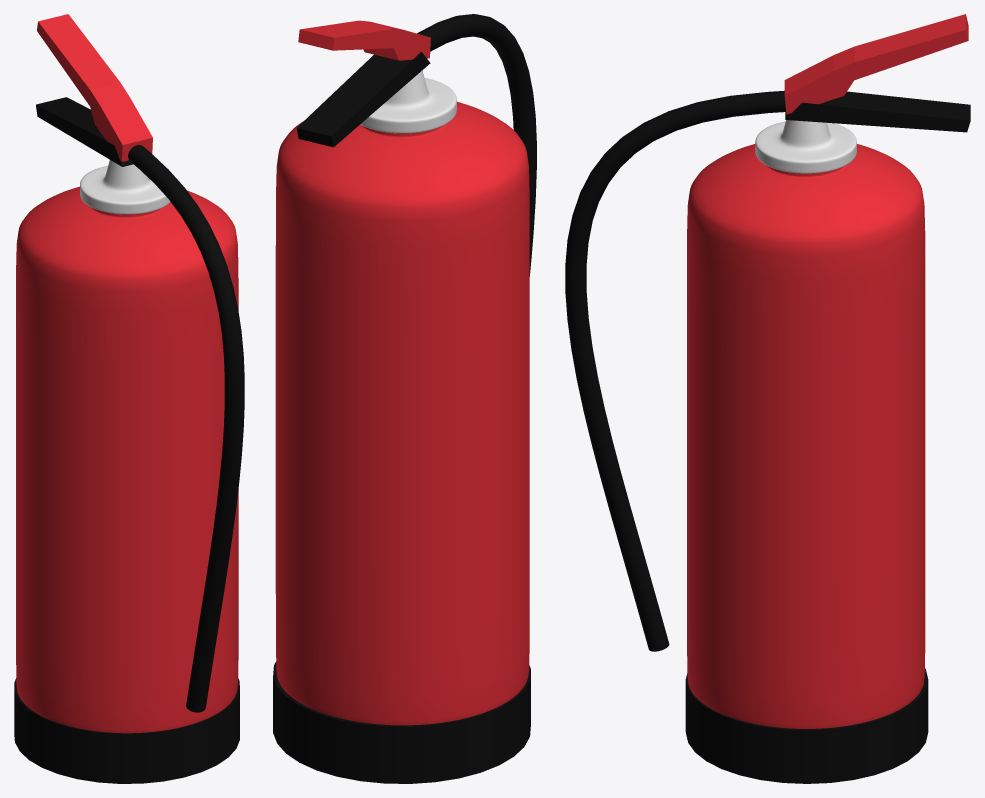
File: Feuerlöscher.fbx
3 renders of one model, left to right at view 1: azimuth 30°, elevation 25°; view 2: azimuth 150°, elevation 25°; view 3: azimuth 270°, elevation 25°, orthographic. The views are drawn at different scales.
Parts seen in each view (by area): view 1: Circle.059, BezierCurve.006, Cylinder.058, Plane.196, Plane.195; view 2: Circle.059, Cylinder.058, Plane.195, BezierCurve.006, Plane.196; view 3: Circle.059, BezierCurve.006, Cylinder.058, Plane.196, Plane.195.
Boxes of the visible parts, x1,y1,x2,y2 form: Circle.059: (16, 160, 238, 733); BezierCurve.006: (128, 145, 244, 712); Cylinder.058: (14, 678, 239, 783); Plane.196: (37, 14, 152, 161); Plane.195: (36, 97, 132, 166); Circle.059: (275, 70, 529, 725); Cylinder.058: (273, 661, 530, 783); Plane.195: (296, 51, 430, 147); BezierCurve.006: (417, 14, 536, 276); Plane.196: (298, 20, 430, 60); Circle.059: (687, 120, 925, 728); BezierCurve.006: (565, 90, 785, 651); Cylinder.058: (685, 668, 928, 783); Plane.196: (784, 14, 968, 114); Plane.195: (785, 91, 970, 132).
Bounding box in the file's own units: 39.69 × 128 × 66.38.
